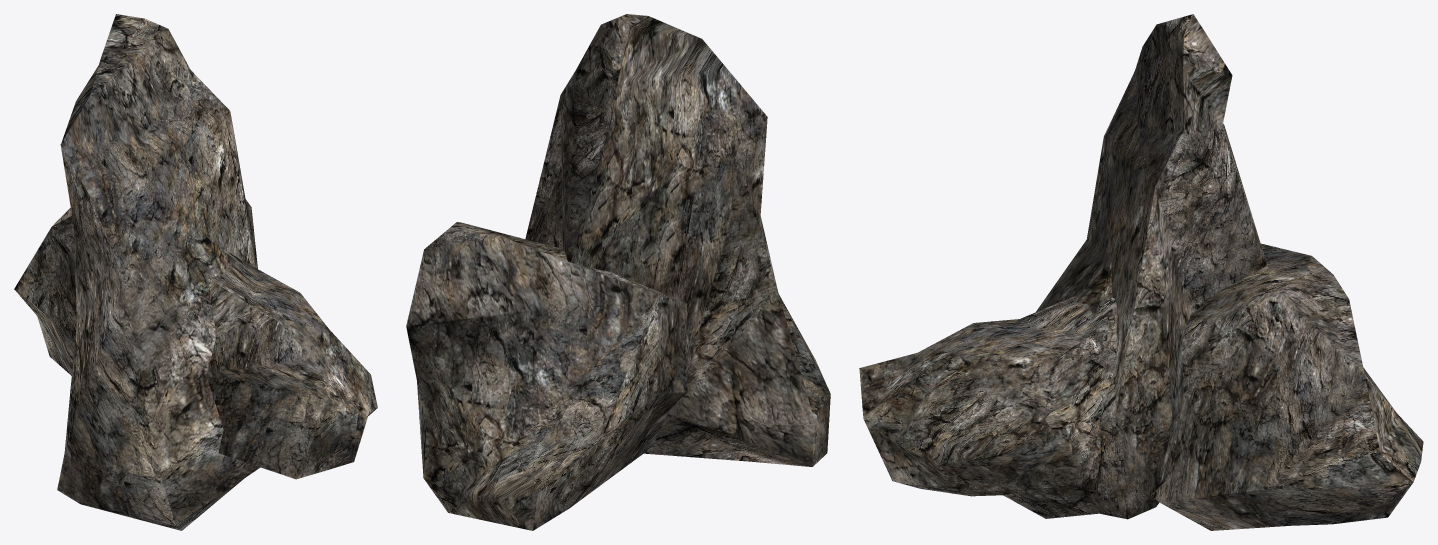
Rendered from pir_m_prp_cav_rockGroup_e.fbx.
3 renders of one model, left to right at view 1: azimuth 30°, elevation 25°; view 2: azimuth 150°, elevation 25°; view 3: azimuth 270°, elevation 25°, orthographic. The views are drawn at different scales.
Visible parts, largest first — view 1: rock3, rock2, rock1; view 2: rock3, rock1; view 3: rock3, rock1, rock2.
Boxes of the visible parts, x1,y1,x2,y2 form: rock3: (57, 14, 260, 530); rock2: (206, 249, 377, 479); rock1: (14, 199, 257, 375); rock3: (525, 14, 830, 466); rock1: (406, 222, 687, 530); rock3: (1003, 14, 1266, 519); rock1: (1151, 243, 1423, 530); rock2: (859, 295, 1116, 496).
Bounding box in the file's own units: 3032 × 4529 × 4763.
Materials: 1 (1 with a texture image).
